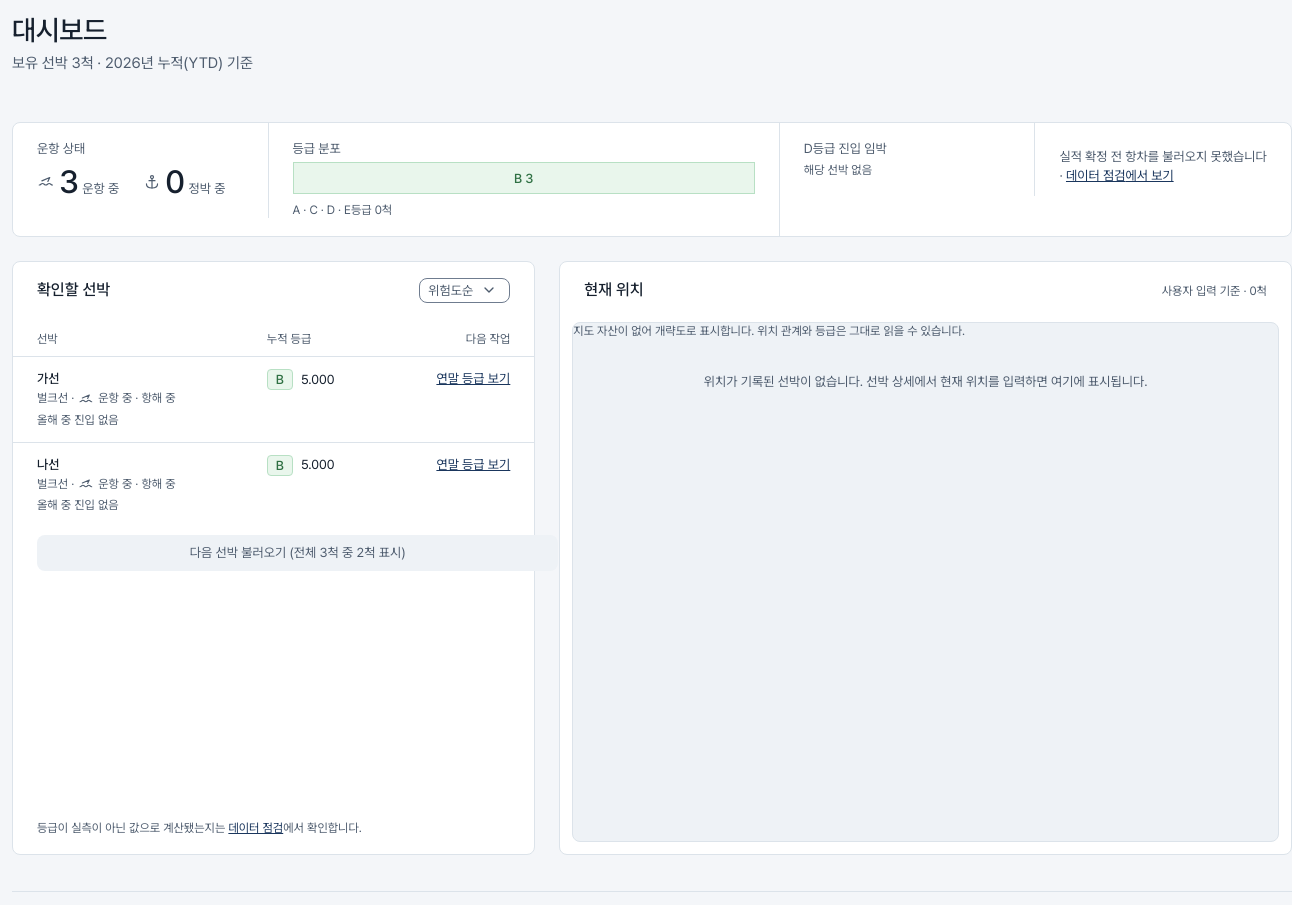
Scenario: 정렬 실패 뒤 복구 (#1814) › 정렬이 실패해도 받아 둔 목록·요약은 남고, 다음 정렬이 성공하면 오류가 걷힌다
The width and height of the screenshot is (1292, 905).
expect the link "가선" is shown: met, box [37,369,60,388]
Select "이름순" in the dropdown with test id "fleet-sort" at (465,290), box [419,278,510,303]
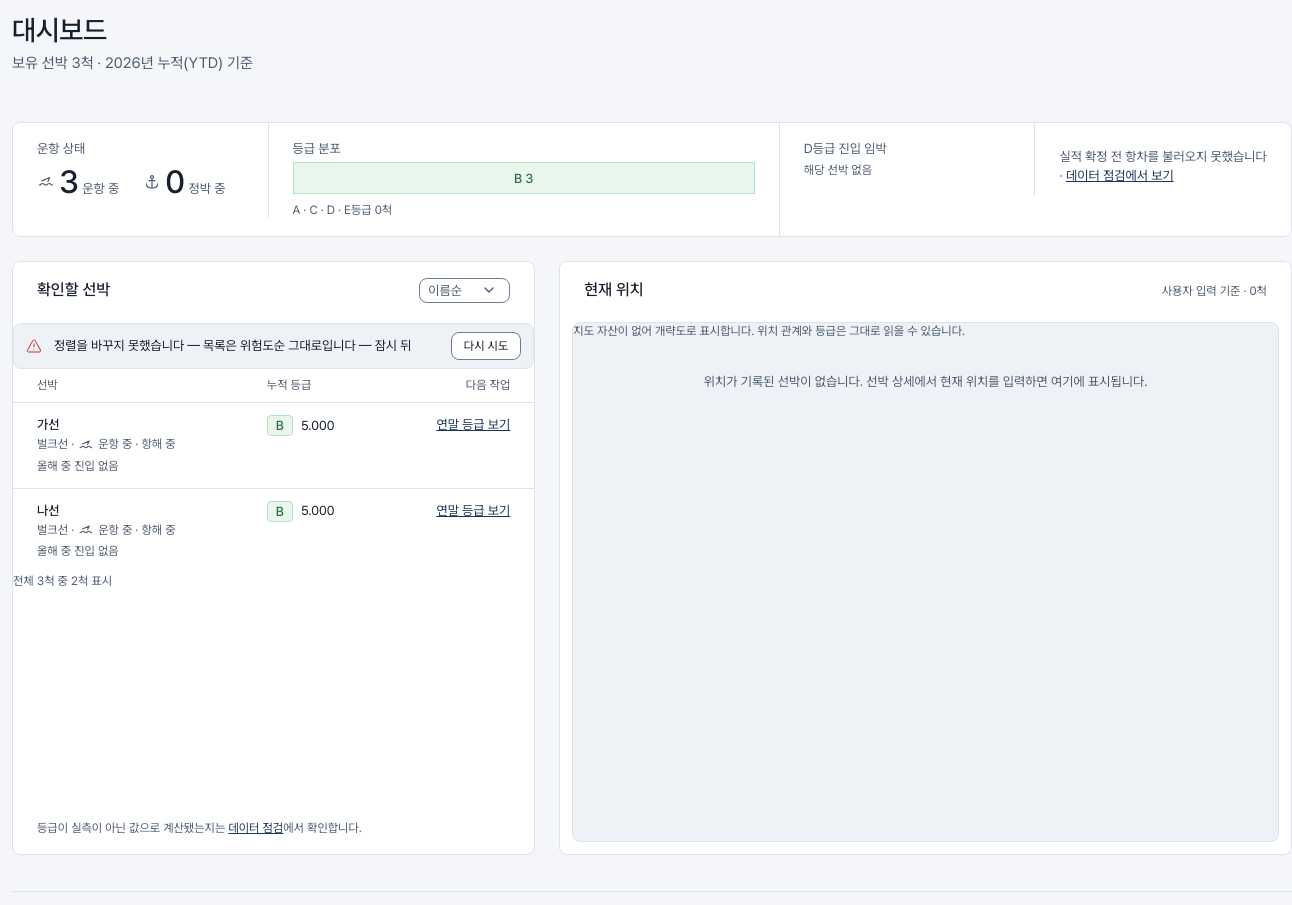
expect the element named "선대 요약" is shown: met, box [12,122,1291,237]
expect the button "다음 선박 불러오기" is gone: met
Click the button "다시 시도" at (486,346), box [451,332,521,360]
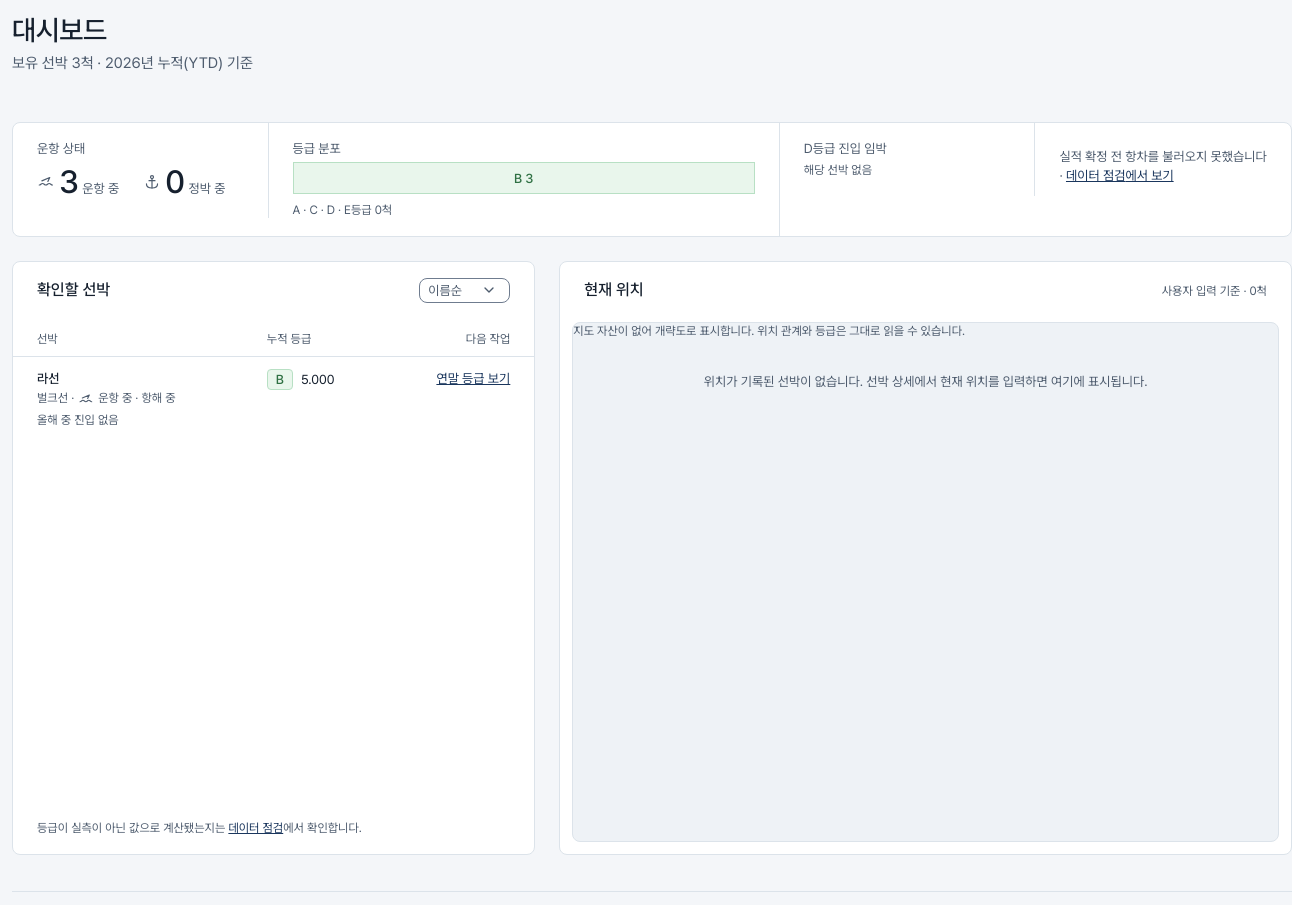
expect the link "라선" is shown: met, box [37,369,60,388]
expect the link "가선" is gone: met
expect the message "정렬을 바꾸지 못했습니다 — 목록은 위험도순 그대로입니다 — 잠시 뒤 다시 시도" is gone: met
